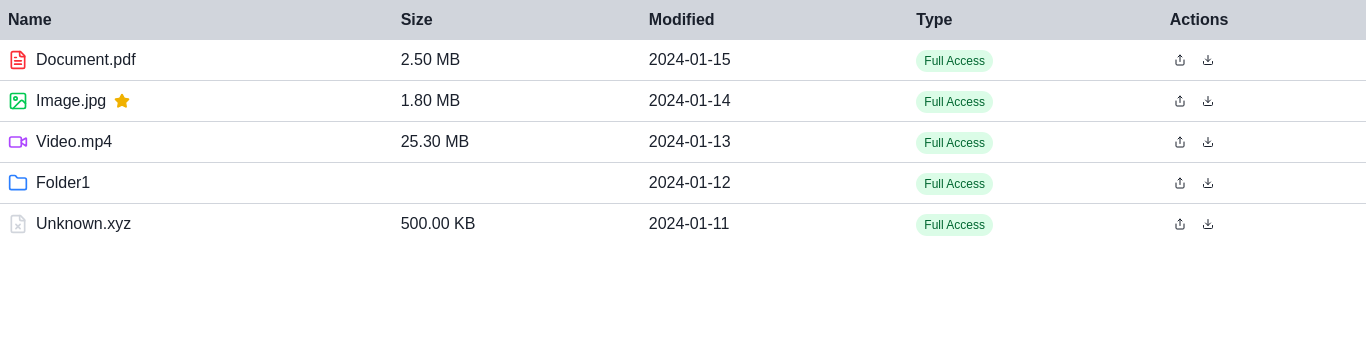
Test: FileList Component › shows context menu on right click
Right-click the row "Document.pdf 2.50 MB 2024-01-15 Full Access".
right_click(683, 61)  # box [0,40,1365,81]
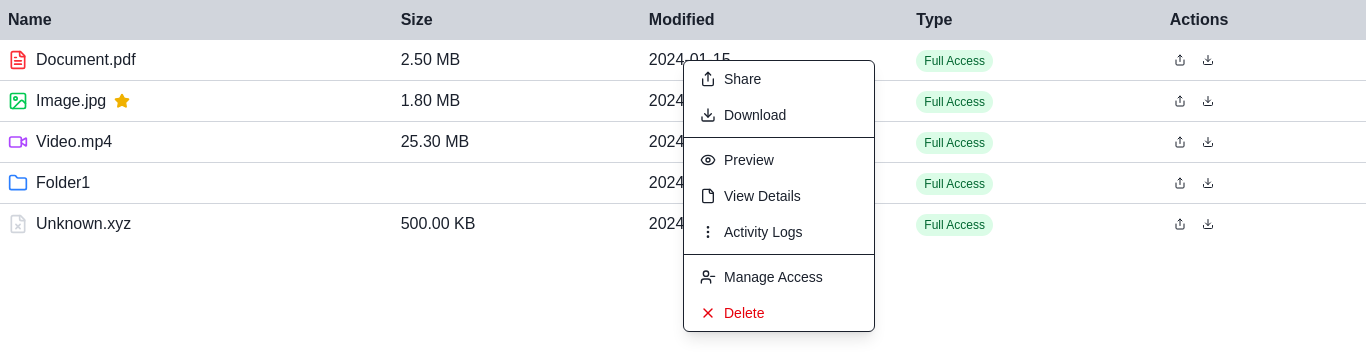
expect the element with class "z-50" is shown: met, box [683,60,875,332]
expect the button "Share" is shown: met, box [684,61,874,97]
expect the button "Download" is shown: met, box [684,97,874,133]
